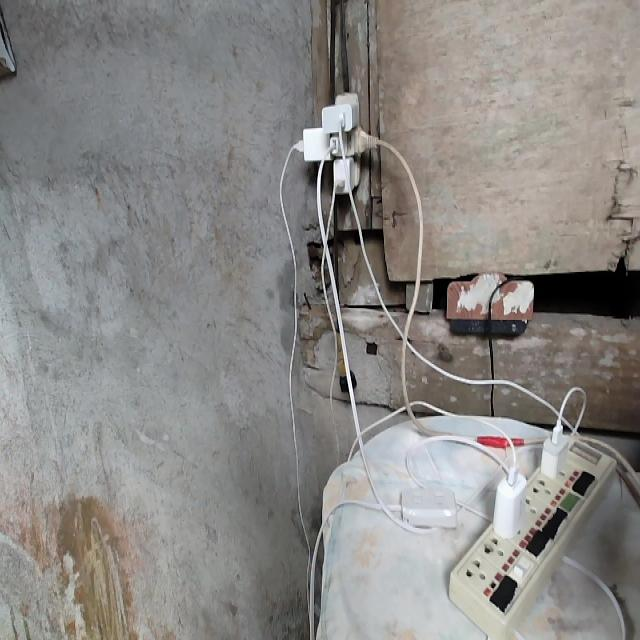-: (298, 89, 374, 192)
